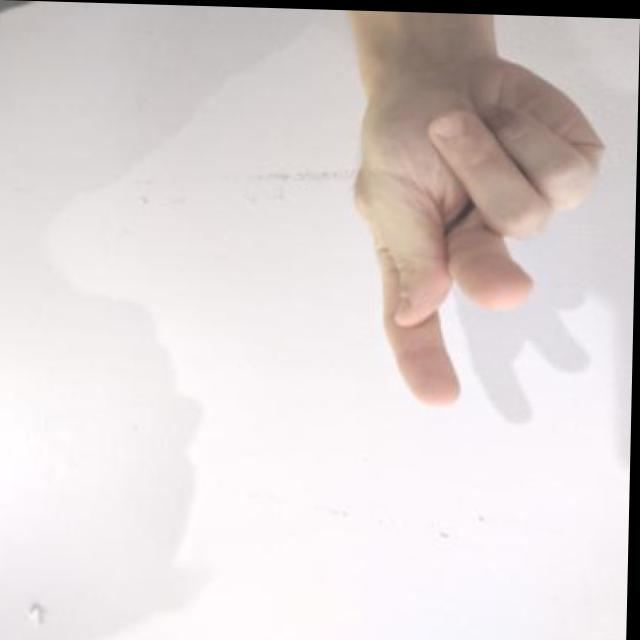K: (333, 32, 633, 426)
